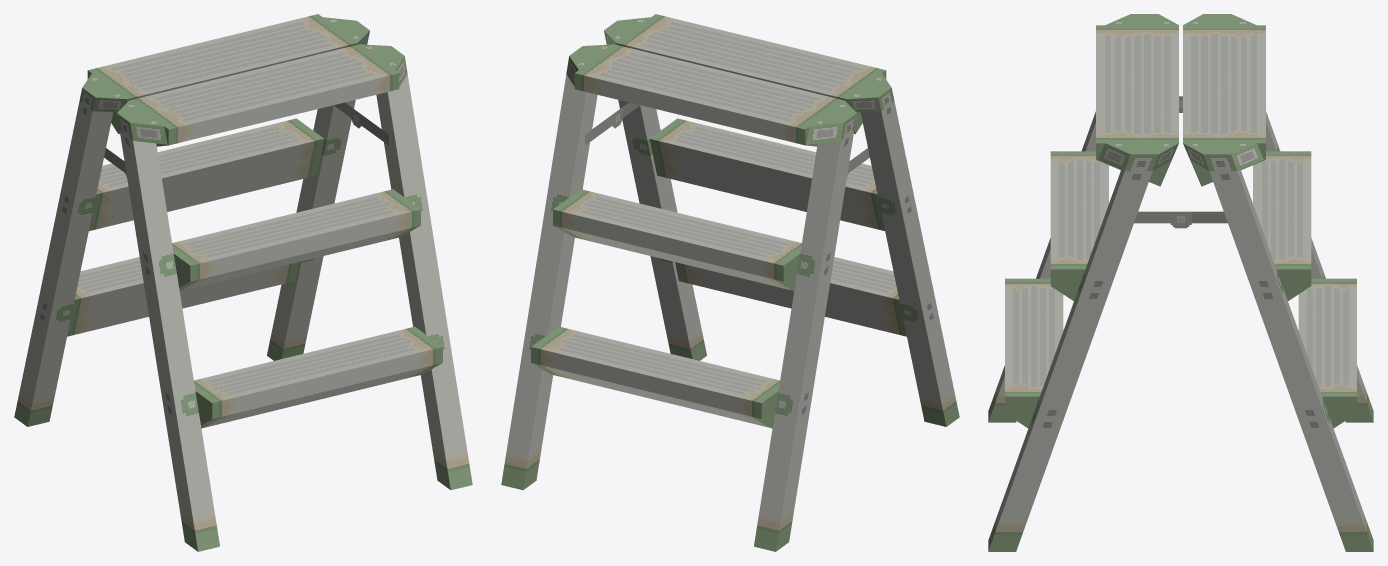
Rendered from 0509_Stepladder.glb.
3 renders of one model, left to right at view 1: azimuth 30°, elevation 25°; view 2: azimuth 150°, elevation 25°; view 3: azimuth 270°, elevation 25°, orthographic. The views are drawn at different scales.
Visible parts, largest first — view 1: part_0; view 2: part_0; view 3: part_0.
Part boxes in pixels (box(x1,y1,x2,y2)): part_0: box(14, 14, 472, 551); part_0: box(501, 14, 959, 551); part_0: box(988, 14, 1373, 551).
Size of the model in its own units: 0.45 by 0.5942 by 0.5223.
1 material, 1 textured.
